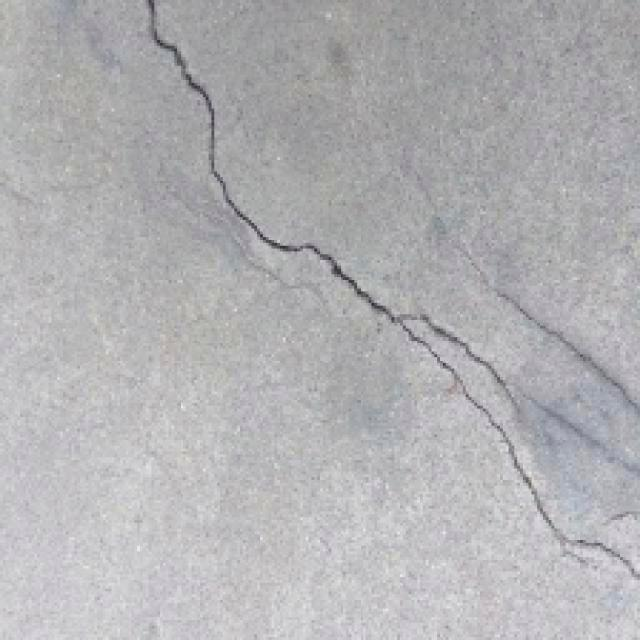SurfaceCrack: (124, 0, 640, 608)
